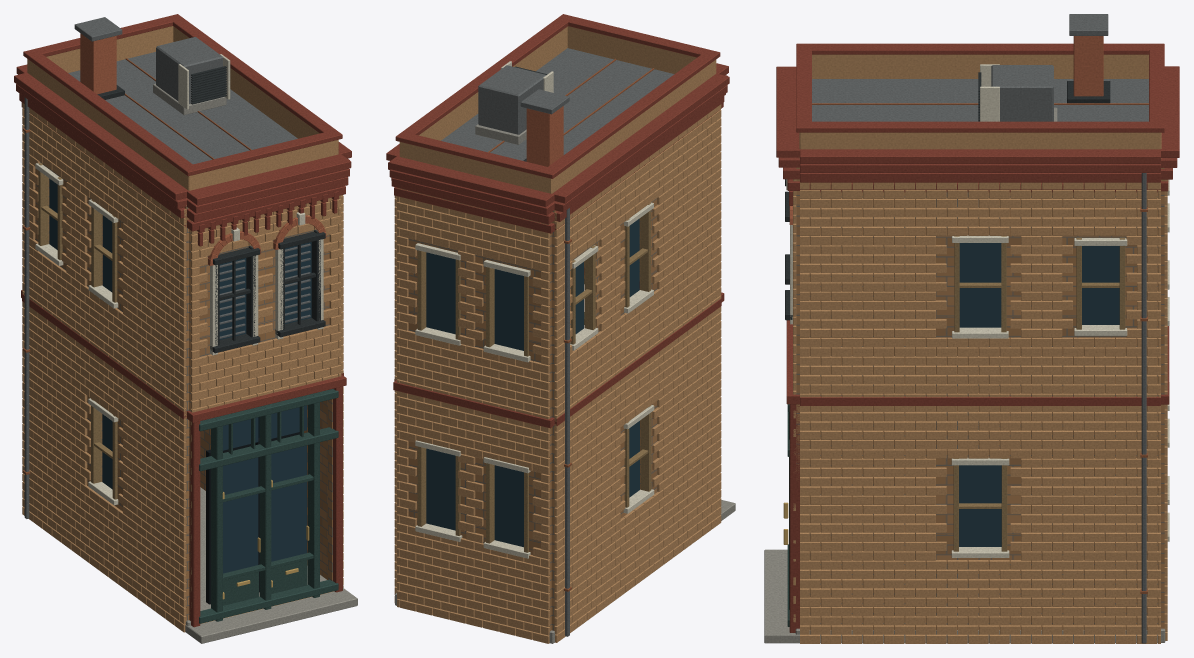
The model's file is BUSS1_lod0.glb.
3 renders of one model, left to right at view 1: azimuth 30°, elevation 25°; view 2: azimuth 150°, elevation 25°; view 3: azimuth 270°, elevation 25°, orthographic. The views are drawn at different scales.
Parts seen in each view (by area): view 1: BUSS1_LOD0; view 2: BUSS1_LOD0; view 3: BUSS1_LOD0.
Part boxes in pixels (x1,y1,x2,y2): BUSS1_LOD0: [14, 14, 357, 643]; BUSS1_LOD0: [386, 14, 735, 643]; BUSS1_LOD0: [764, 14, 1179, 643].
Size of the model in its own units: 3.78 by 10.25 by 6.9.
Materials: 16 (13 with a texture image).
